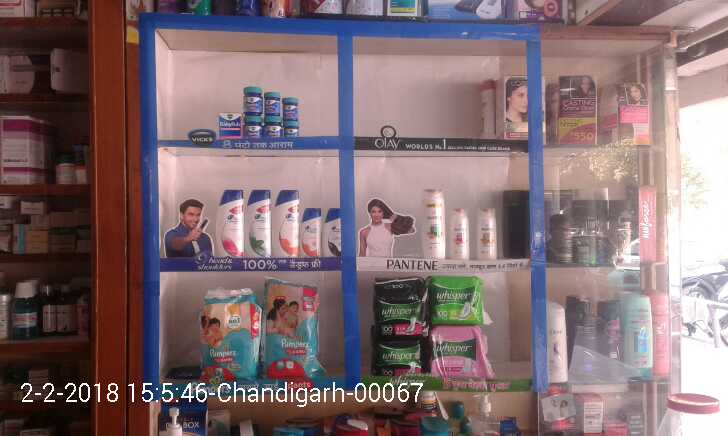beauty: (265, 182, 299, 262), (216, 186, 244, 257), (244, 183, 269, 256), (421, 189, 445, 258), (296, 201, 324, 255), (475, 202, 497, 255), (447, 213, 466, 259), (325, 207, 338, 259)
pharmacy: (259, 277, 323, 378), (196, 291, 257, 381), (427, 328, 499, 379), (375, 278, 428, 340), (431, 275, 481, 321), (374, 337, 424, 376), (217, 110, 242, 138), (240, 85, 263, 114), (280, 99, 305, 119), (262, 89, 277, 116), (244, 111, 260, 135), (264, 114, 282, 135), (284, 115, 297, 138)
